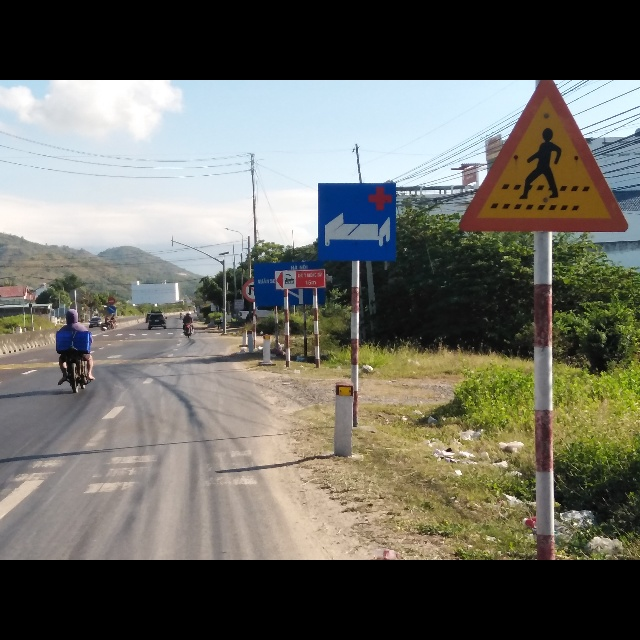Bệnh viện: (316, 183, 397, 263)
Đường người đi bộ sang đường: (460, 79, 638, 235)
